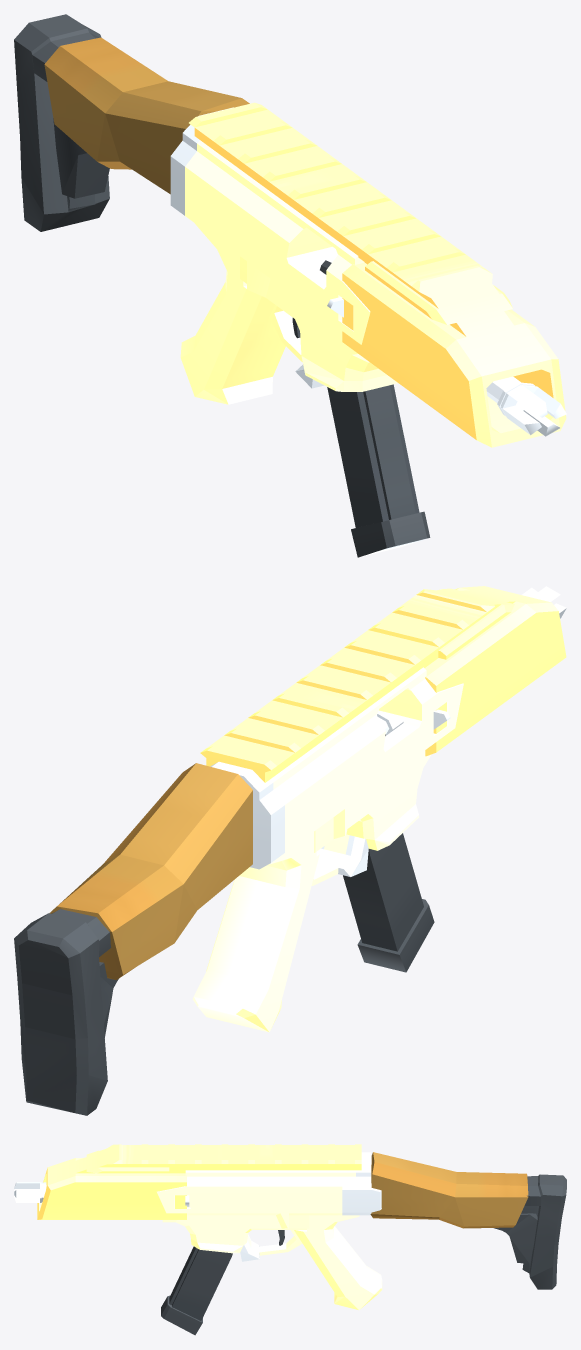
The model's file is Weapon_3.fbx.
3 views of the same model, one above another, from view 1: azimuth 30°, elevation 25°; view 2: azimuth 150°, elevation 25°; view 3: azimuth 270°, elevation 25° (orthographic). The views are drawn at different scales.
Visible parts, largest first — view 1: ScorpionMesh; view 2: ScorpionMesh; view 3: ScorpionMesh.
Boxes of the visible parts, x1=… form: ScorpionMesh: x1=14, y1=14, x2=566, y2=557; ScorpionMesh: x1=14, y1=586, x2=566, y2=1115; ScorpionMesh: x1=14, y1=1144, x2=566, y2=1335.
Bounding box in the file's own units: 44.53 × 121 × 340.
